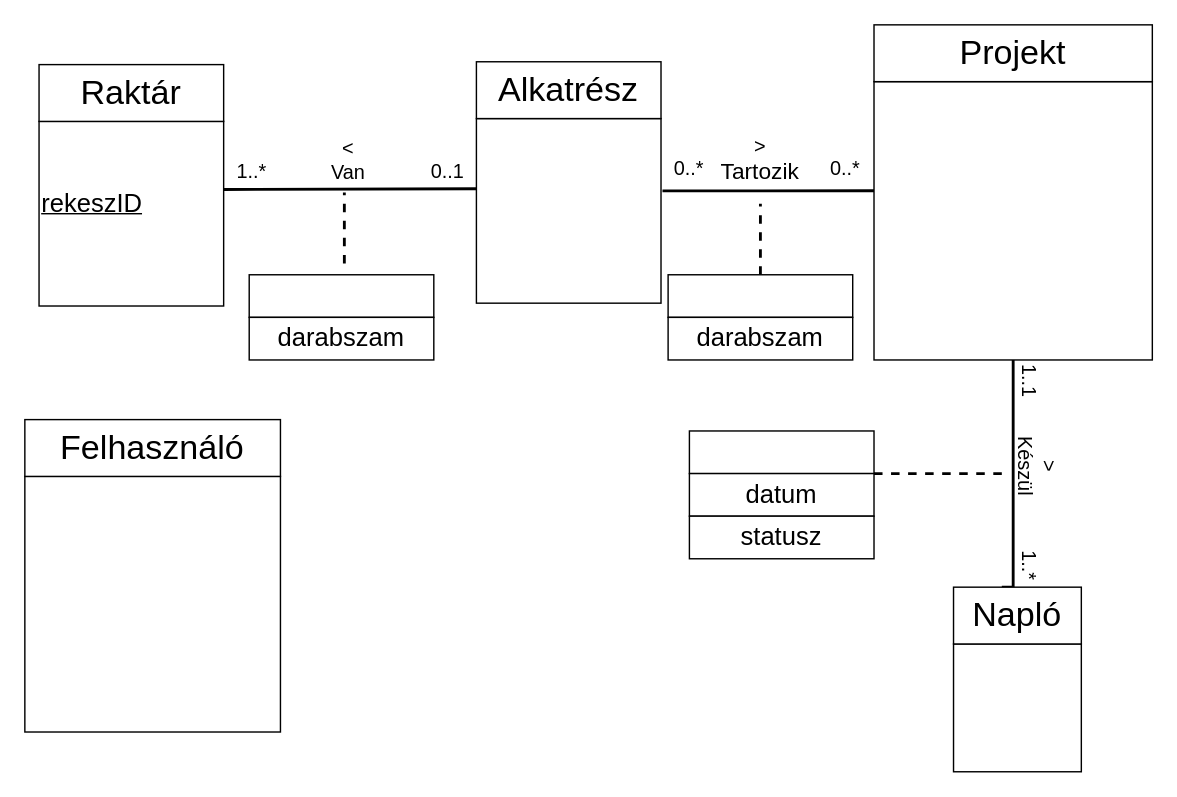
Some shapes in this 1177 by 797 pixel diagram are drawn without their labels. Each missing label, with the box of its shape:
id: (952, 643, 1081, 772)
id nev ar maxdb: (475, 117, 661, 303)
id nev helyszin megrendelo leiras statusz munkaido munkadij ar: (873, 80, 1152, 360)
id nev szerepkor jelszohash email two_factor_secret two_factor_valid_date: (23, 475, 280, 732)
